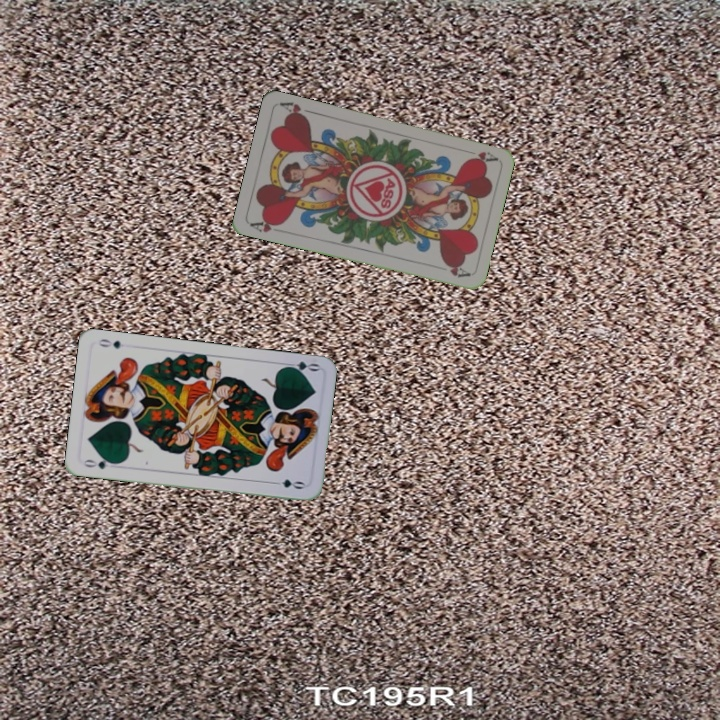GO: (280, 357, 321, 376), (80, 454, 120, 472)
HA: (246, 215, 287, 235), (459, 145, 499, 165)
